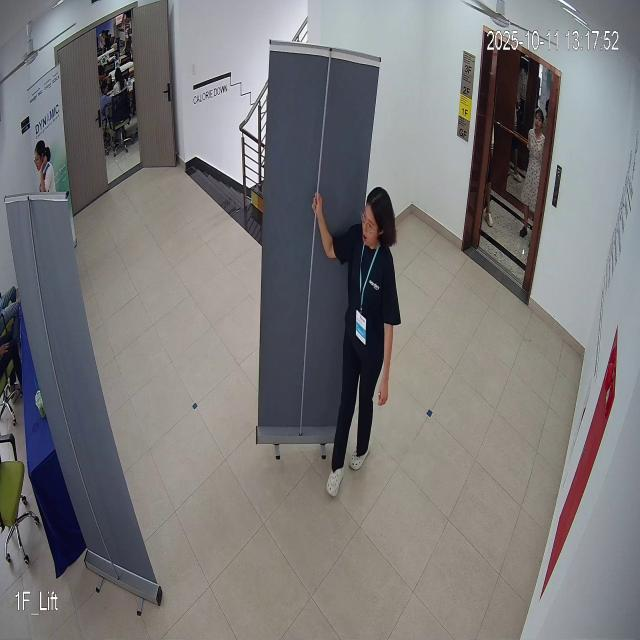face: (358, 179, 401, 259)
